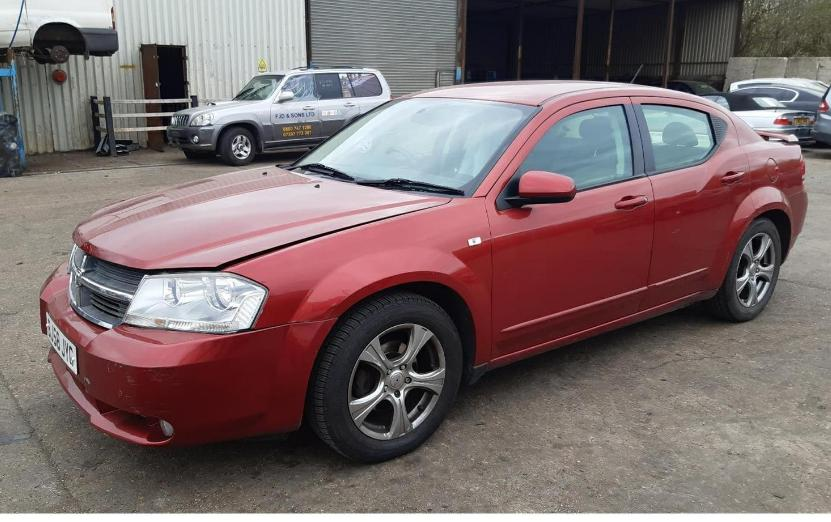Back-bumper: (783, 192, 808, 263)
Back-door: (631, 97, 755, 310)
Back-wheel: (710, 219, 781, 320)
Back-window: (642, 105, 714, 169)
Fender: (222, 199, 491, 367)
Front-bumper: (40, 260, 337, 446)
Front-door: (485, 97, 653, 360)
Front-wheel: (305, 292, 462, 462)
Front-window: (496, 105, 632, 210)
Grille: (68, 244, 143, 328)
Headlight: (122, 273, 267, 333)
Hood: (73, 165, 450, 269)
License-plate: (46, 313, 76, 374)
Mirror: (504, 171, 575, 207)
Quarter-panel: (739, 138, 803, 214)
Rocker-panel: (466, 289, 718, 386)
Roof: (400, 80, 721, 109)
Tail-light: (800, 152, 806, 190)
Trunk: (754, 129, 798, 142)
Windshield: (284, 99, 540, 197)
